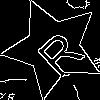R: (28, 23, 86, 80)
